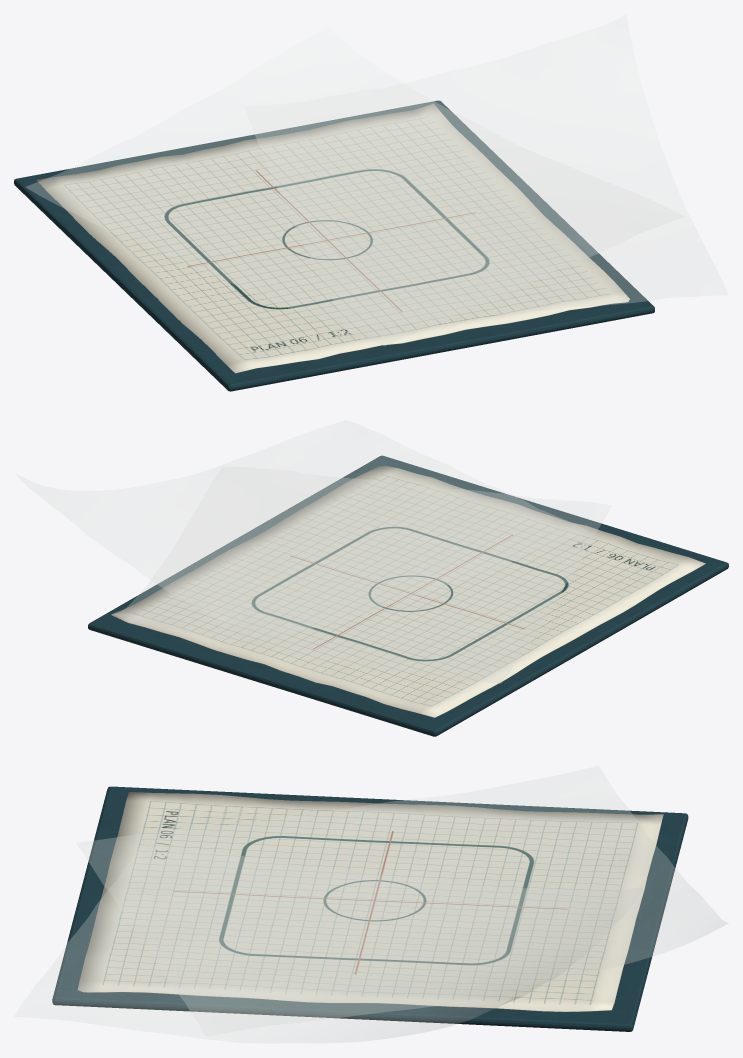
File: vellum.glb
3 views of the same model, one above another, from view 1: azimuth 30°, elevation 25°; view 2: azimuth 150°, elevation 25°; view 3: azimuth 270°, elevation 25° (orthographic). The views are drawn at different scales.
Visible parts, largest first — view 1: Second tracing sheet with raised corner, Thin translucent tracing sheet, Drafting drawing visible through tracing stock, Drawing support; view 2: Drafting drawing visible through tracing stock, Second tracing sheet with raised corner, Thin translucent tracing sheet, Drawing support; view 3: Second tracing sheet with raised corner, Drafting drawing visible through tracing stock, Thin translucent tracing sheet, Drawing support.
Part boxes in pixels (box(x1,y1,x2,y2)): Second tracing sheet with raised corner: box(26, 25, 684, 345); Thin translucent tracing sheet: box(245, 15, 728, 327); Drafting drawing visible through tracing stock: box(37, 103, 629, 373); Drawing support: box(14, 100, 654, 391); Drafting drawing visible through tracing stock: box(111, 465, 705, 717); Second tracing sheet with raised corner: box(112, 467, 611, 683); Thin translucent tracing sheet: box(15, 420, 588, 637); Drawing support: box(88, 455, 728, 736); Second tracing sheet with raised corner: box(76, 766, 728, 1036); Drafting drawing visible through tracing stock: box(77, 792, 663, 1011); Thin translucent tracing sheet: box(14, 844, 645, 1043); Drawing support: box(52, 786, 688, 1031).
Size of the model in its own units: 0.3458 by 0.0557 by 0.3363.
3 materials, 2 textured.
